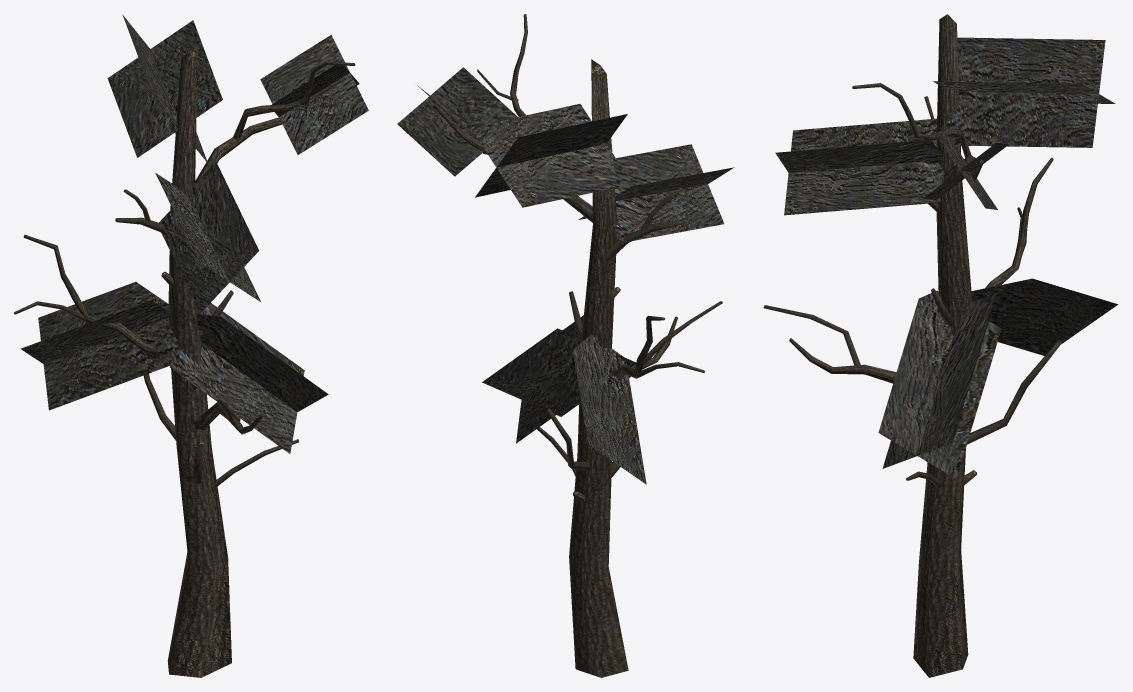
Rendered from tree_goth_dead_lg.fbx.
3 renders of one model, left to right at view 1: azimuth 30°, elevation 25°; view 2: azimuth 150°, elevation 25°; view 3: azimuth 270°, elevation 25°, orthographic. The views are drawn at different scales.
Parts seen in each view (by area): view 1: mesh_12, mesh_20, mesh_22, mesh_21, mesh_19, mesh_23, mesh_4, mesh_7, mesh_6, mesh_8; view 2: mesh_12, mesh_19, mesh_21, mesh_20, mesh_22, mesh_23, mesh_6, mesh_4, mesh_2, mesh_7, mesh_17; view 3: mesh_19, mesh_12, mesh_22, mesh_21, mesh_20, mesh_23, mesh_4, mesh_17, mesh_8, mesh_7, mesh_11.
Boxes of the visible parts, bbox=[...] form: mesh_12: bbox=[167, 44, 231, 677]; mesh_20: bbox=[20, 281, 179, 410]; mesh_22: bbox=[170, 303, 328, 453]; mesh_21: bbox=[155, 161, 260, 313]; mesh_19: bbox=[107, 14, 222, 163]; mesh_23: bbox=[260, 35, 368, 154]; mesh_4: bbox=[23, 234, 155, 353]; mesh_7: bbox=[233, 61, 355, 139]; mesh_6: bbox=[195, 117, 283, 183]; mesh_8: bbox=[192, 402, 261, 434]; mesh_12: bbox=[569, 59, 628, 677]; mesh_19: bbox=[470, 104, 632, 207]; mesh_21: bbox=[578, 144, 734, 242]; mesh_20: bbox=[572, 334, 646, 484]; mesh_22: bbox=[482, 315, 635, 443]; mesh_23: bbox=[397, 67, 517, 176]; mesh_6: bbox=[433, 103, 592, 222]; mesh_4: bbox=[613, 315, 665, 378]; mesh_2: bbox=[607, 220, 684, 260]; mesh_7: bbox=[510, 14, 527, 116]; mesh_17: bbox=[546, 408, 590, 470]; mesh_19: bbox=[933, 37, 1115, 147]; mesh_12: bbox=[913, 14, 972, 677]; mesh_22: bbox=[878, 290, 1001, 478]; mesh_21: bbox=[775, 118, 943, 215]; mesh_20: bbox=[971, 278, 1117, 355]; mesh_23: bbox=[924, 133, 1008, 209]; mesh_4: bbox=[985, 157, 1053, 288]; mesh_17: bbox=[967, 340, 1061, 444]; mesh_8: bbox=[789, 338, 896, 383]; mesh_7: bbox=[852, 83, 972, 158]; mesh_11: bbox=[763, 305, 860, 365].
Bounding box in the file's own units: 805 × 1445 × 715.
2 materials, 2 textured.
